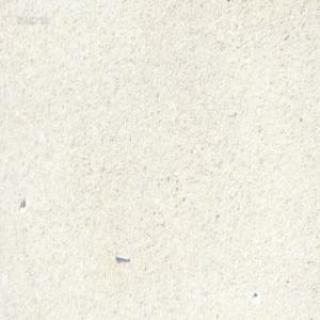Nailtrack_idkeyframe: (114, 251, 130, 262)
